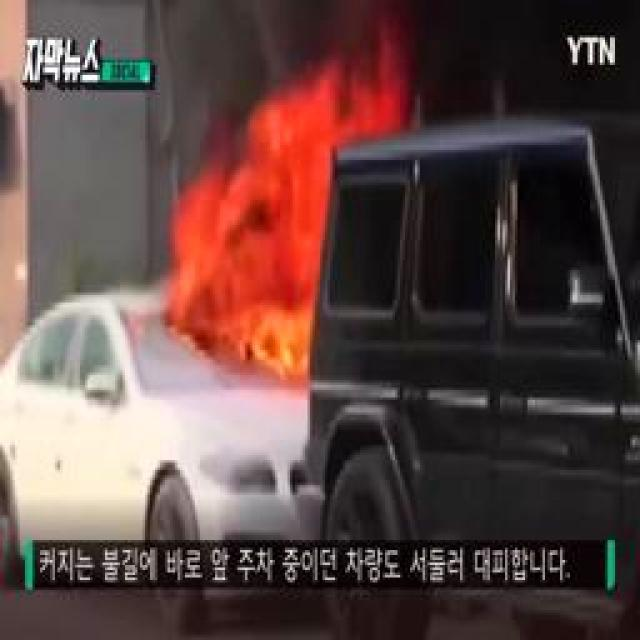Fire: (185, 83, 338, 373)
